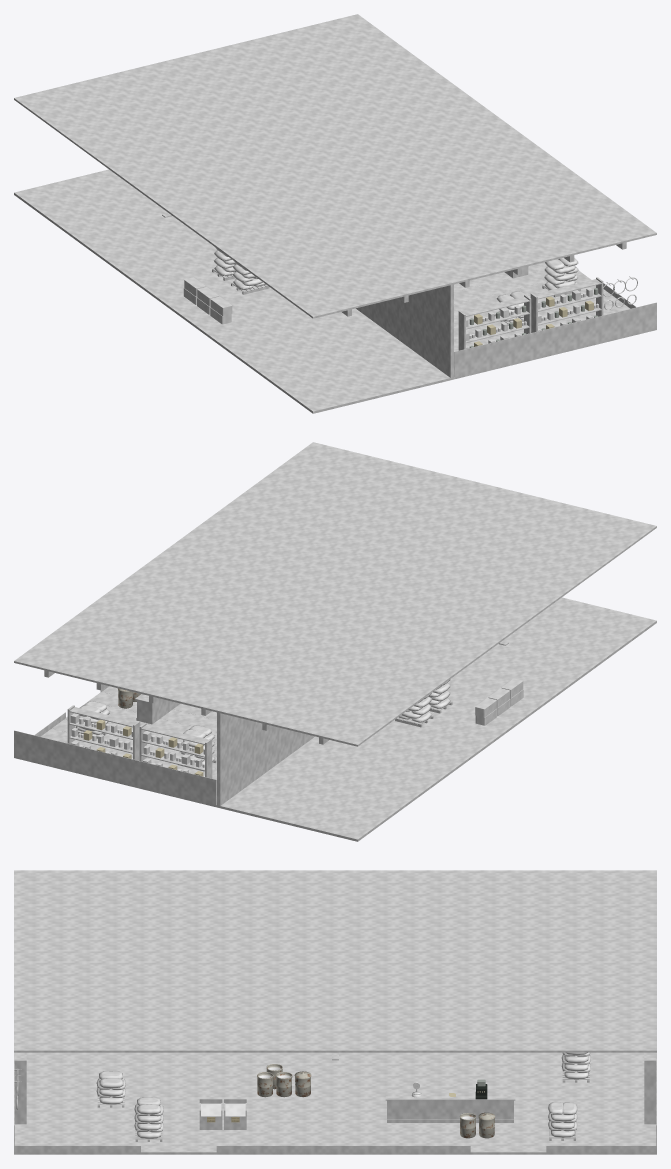
The model's file is SM_Town_Feed_Interior.glb.
3 views of the same model, one above another, from view 1: azimuth 30°, elevation 25°; view 2: azimuth 150°, elevation 25°; view 3: azimuth 270°, elevation 25° (orthographic). The views are drawn at different scales.
Visible parts, largest first — view 1: SM_Town_Feed_Interior; view 2: SM_Town_Feed_Interior; view 3: SM_Town_Feed_Interior.
Part boxes in pixels (x1,y1,x2,y2): SM_Town_Feed_Interior: [14, 14, 656, 413]; SM_Town_Feed_Interior: [14, 442, 656, 841]; SM_Town_Feed_Interior: [14, 870, 656, 1154].
Size of the model in its own units: 15.78 by 4.25 by 23.78.
Materials: 17 (13 with a texture image).
